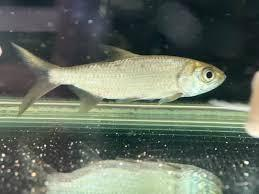Indo-Pacific Tarpon: (4, 39, 227, 112), (2, 154, 254, 194)
